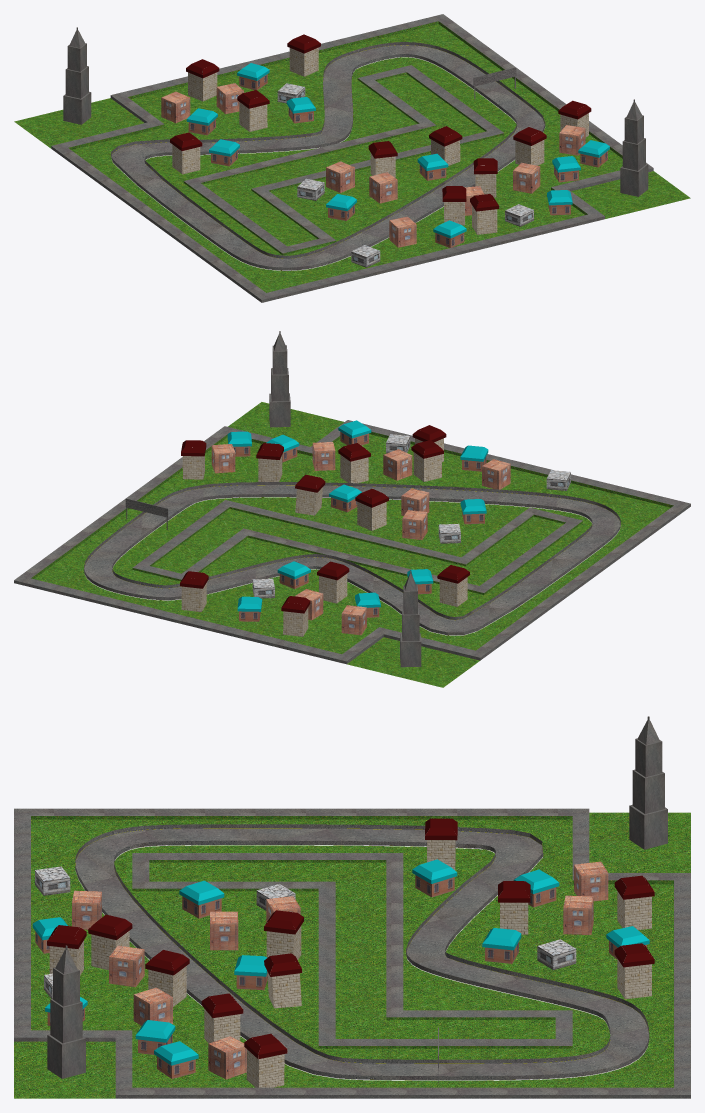
The model's file is pista_3.0.fbx.
3 views of the same model, one above another, from view 1: azimuth 30°, elevation 25°; view 2: azimuth 150°, elevation 25°; view 3: azimuth 270°, elevation 25° (orthographic). The views are drawn at different scales.
Visible parts, largest first — view 1: Pista2, Pista, pasted__pasted__pCube33 (×3), pCube40, pCube39, pasted__pasted__pCube27 (×2), pasted__pasted__pasted__pasted__pasted__pasted__pasted__past (×2), pasted__pasted__pasted__pasted__pasted__pasted__pasted__pCub (×2), pasted__pasted__pasted__pCube27 (×2), pasted__pasted__pasted__pCube33 (×2), pasted__pasted__pCube32 (×2), pasted__pasted__pasted__pasted__pasted__pCube27 (+16 smaller); view 2: Pista2, Pista, pasted__pasted__pCube33 (×3), pasted__pasted__pasted__pCube27 (×2), pasted__pasted__pasted__pasted__pasted__pasted__pasted__pCub (×2), pCube39, pCube40, pasted__pasted__pasted__pasted__pasted__pasted__pasted__past (×2), pasted__pasted__pasted__pCube33 (×2), pasted__pasted__pCube32 (×2), pasted__pasted__pasted__pasted__pCube27, pCube27 (+8 smaller); view 3: Pista2, Pista, pCube40, pCube39, pasted__pasted__pasted__pCube27 (×2), pasted__pasted__pCube33 (×3), pasted__pasted__pasted__pasted__pasted__pasted__pasted__pCub (×2), pasted__pasted__pCube27 (×2), pasted__pasted__pasted__pCube33 (×2), pasted__pasted__pasted__pasted__pasted__pasted__pasted__past (×2), pasted__pCube27, pCube27 (+14 smaller).
Part boxes in pixels (x1=…): Pista2: x1=14, y1=14, x2=690, y2=302; Pista: x1=111, y1=42, x2=545, y2=270; pasted__pasted__pCube33 (×3): x1=216, y1=83, x2=397, y2=203; pCube40: x1=63, y1=27, x2=91, y2=124; pCube39: x1=620, y1=99, x2=648, y2=196; pasted__pasted__pCube27 (×2): x1=470, y1=127, x2=546, y2=234; pasted__pasted__pasted__pasted__pasted__pasted__pasted__past (×2): x1=186, y1=59, x2=269, y2=101; pasted__pasted__pasted__pasted__pasted__pasted__pasted__pCub (×2): x1=286, y1=34, x2=320, y2=123; pasted__pasted__pasted__pCube27 (×2): x1=429, y1=100, x2=591, y2=165; pasted__pasted__pasted__pCube33 (×2): x1=161, y1=91, x2=585, y2=155; pasted__pasted__pCube32 (×2): x1=433, y1=190, x2=572, y2=247; pasted__pasted__pasted__pasted__pasted__pCube27: x1=170, y1=132, x2=202, y2=174; Pista2: x1=14, y1=402, x2=690, y2=687; Pista: x1=84, y1=482, x2=620, y2=635; pasted__pasted__pCube33 (×3): x1=383, y1=449, x2=429, y2=539; pasted__pasted__pasted__pCube27 (×2): x1=181, y1=440, x2=325, y2=515; pasted__pasted__pasted__pasted__pasted__pasted__pasted__pCub (×2): x1=180, y1=561, x2=310, y2=611; pCube39: x1=269, y1=331, x2=290, y2=427; pCube40: x1=400, y1=571, x2=421, y2=667; pasted__pasted__pasted__pasted__pasted__pasted__pasted__past (×2): x1=237, y1=596, x2=310, y2=636; pasted__pasted__pasted__pCube33 (×2): x1=211, y1=444, x2=366, y2=635; pasted__pasted__pCube32 (×2): x1=338, y1=420, x2=488, y2=471; pasted__pasted__pasted__pasted__pCube27: x1=355, y1=488, x2=388, y2=530; pCube27: x1=411, y1=440, x2=443, y2=481; Pista2: x1=14, y1=808, x2=690, y2=1098; Pista: x1=75, y1=824, x2=649, y2=1080; pCube40: x1=629, y1=716, x2=667, y2=849; pCube39: x1=47, y1=945, x2=85, y2=1078; pasted__pasted__pasted__pCube27 (×2): x1=244, y1=953, x2=302, y2=1087; pasted__pasted__pCube33 (×3): x1=109, y1=895, x2=593, y2=987; pasted__pasted__pasted__pasted__pasted__pasted__pasted__pCub (×2): x1=482, y1=928, x2=654, y2=999; pasted__pasted__pCube27 (×2): x1=47, y1=925, x2=243, y2=1043; pasted__pasted__pasted__pCube33 (×2): x1=208, y1=861, x2=608, y2=1079; pasted__pasted__pasted__pasted__pasted__pasted__pasted__past (×2): x1=606, y1=875, x2=654, y2=959; pasted__pCube27: x1=145, y1=950, x2=189, y2=1006; pCube27: x1=88, y1=914, x2=132, y2=970.
Bounding box in the file's own units: 24.11 × 6.53 × 24.11.
57 materials, 35 textured.
